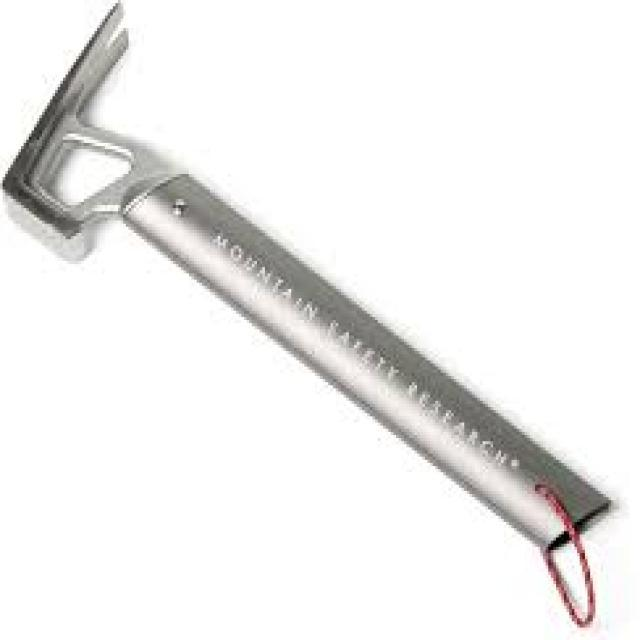Palu: (0, 13, 612, 605)
